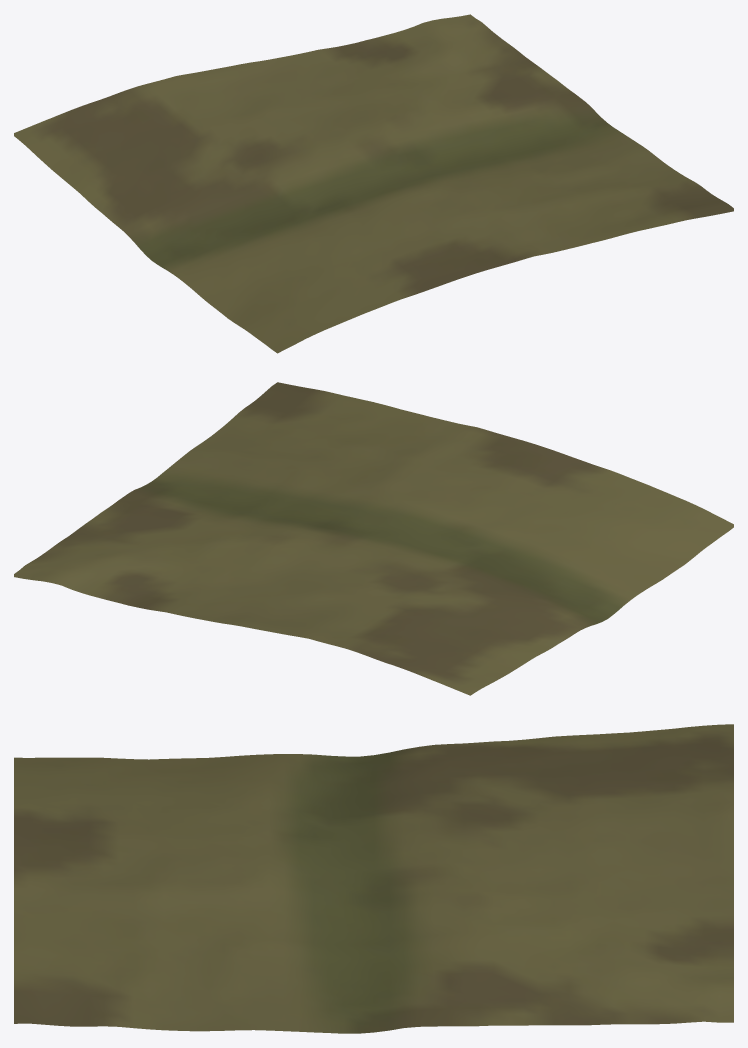
The model's file is land_m_10_03.glb.
3 views of the same model, one above another, from view 1: azimuth 30°, elevation 25°; view 2: azimuth 150°, elevation 25°; view 3: azimuth 270°, elevation 25° (orthographic). The views are drawn at different scales.
Parts seen in each view (by area): view 1: land_m_10_03; view 2: land_m_10_03; view 3: land_m_10_03.
Boxes of the visible parts, left/top/right/bottom form: land_m_10_03: left=14, top=14, right=733, bottom=353; land_m_10_03: left=14, top=382, right=733, bottom=695; land_m_10_03: left=14, top=724, right=733, bottom=1033.
Size of the model in its own units: 960 by 93.3 by 960.
